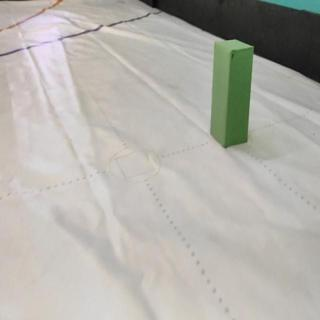greenbox: (211, 37, 254, 146)
